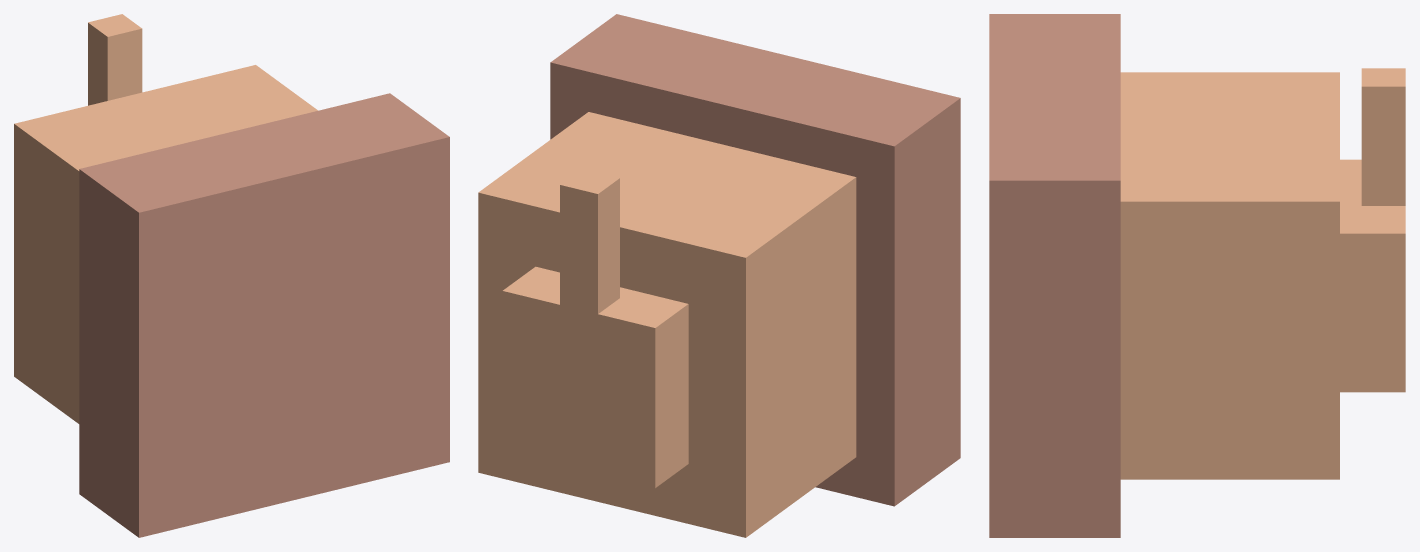
File: still_held.gltf
3 renders of one model, left to right at view 1: azimuth 30°, elevation 25°; view 2: azimuth 150°, elevation 25°; view 3: azimuth 270°, elevation 25°, orthographic. The views are drawn at different scales.
Parts seen in each view (by area): view 1: alchemy_still_held; view 2: alchemy_still_held; view 3: alchemy_still_held.
Part boxes in pixels (x1,y1,x2,y2): alchemy_still_held: (14, 14, 449, 537); alchemy_still_held: (478, 14, 960, 537); alchemy_still_held: (989, 14, 1405, 537).
Bounding box in the file's own units: 0.144 × 0.152 × 0.152.
